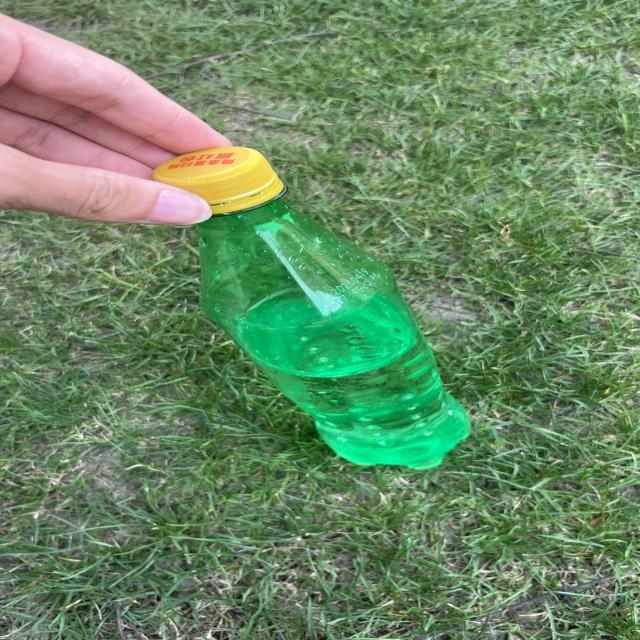medium: (155, 146, 468, 468)
